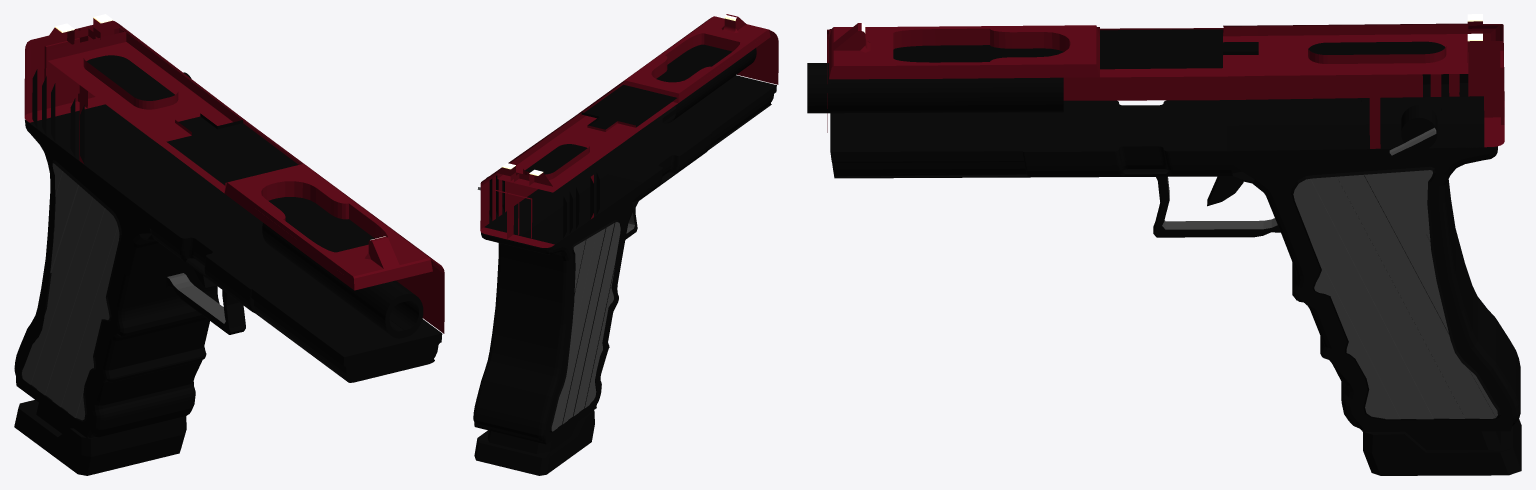
File: glock.fbx
3 views of the same model, side by side, from view 1: azimuth 30°, elevation 25°; view 2: azimuth 150°, elevation 25°; view 3: azimuth 270°, elevation 25° (orthographic). The views are drawn at different scales.
Parts seen in each view (by area): view 1: Plane, Plane.001, Mag; view 2: Plane, Plane.001, Mag; view 3: Plane, Plane.001, Mag, Cylinder.
Part boxes in pixels (x1,y1,x2,y2): Plane: [14, 104, 442, 438]; Plane.001: [24, 14, 444, 333]; Mag: [14, 400, 186, 475]; Plane: [473, 48, 776, 444]; Plane.001: [480, 14, 778, 247]; Mag: [474, 410, 594, 475]; Plane: [807, 63, 1520, 431]; Plane.001: [827, 14, 1504, 148]; Mag: [1363, 419, 1521, 475]; Cylinder: [1389, 105, 1437, 155].
Bounding box in the file's own units: 264 × 748 × 1146.
